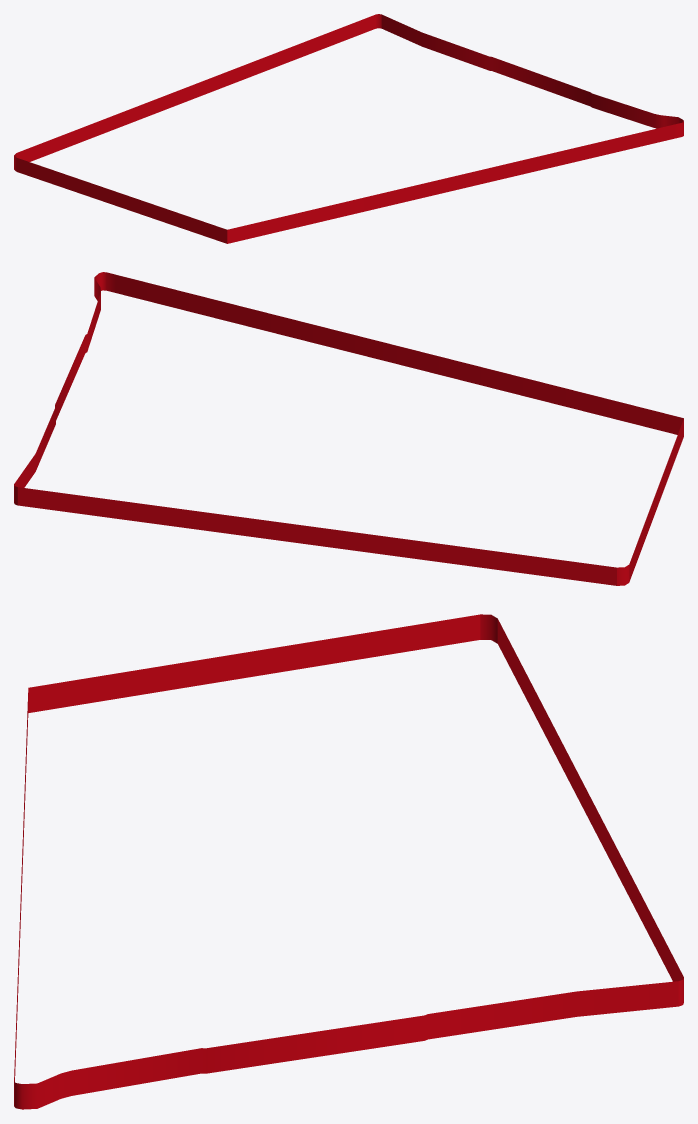
The model's file is Vent barriers.fbx.
3 renders of one model, top to bottom at view 1: azimuth 30°, elevation 25°; view 2: azimuth 150°, elevation 25°; view 3: azimuth 270°, elevation 25°, orthographic. The views are drawn at different scales.
Parts seen in each view (by area): view 1: Vent Barriers.001; view 2: Vent Barriers.001; view 3: Vent Barriers.001.
Part boxes in pixels (left/top/right/bottom): Vent Barriers.001: left=14, top=14, right=683, bottom=243; Vent Barriers.001: left=14, top=272, right=683, bottom=585; Vent Barriers.001: left=14, top=614, right=683, bottom=1109.
Bounding box in the file's own units: 3752 × 94.74 × 2262.
